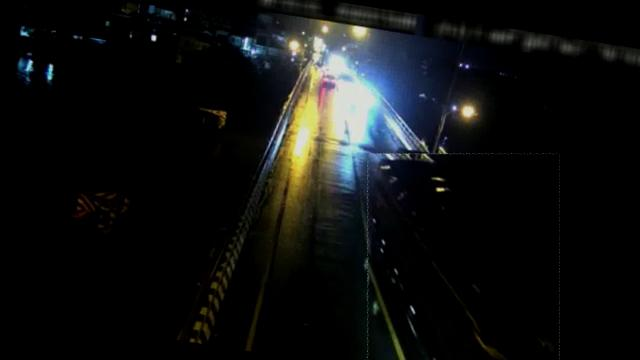Truck: (343, 132, 584, 360)
